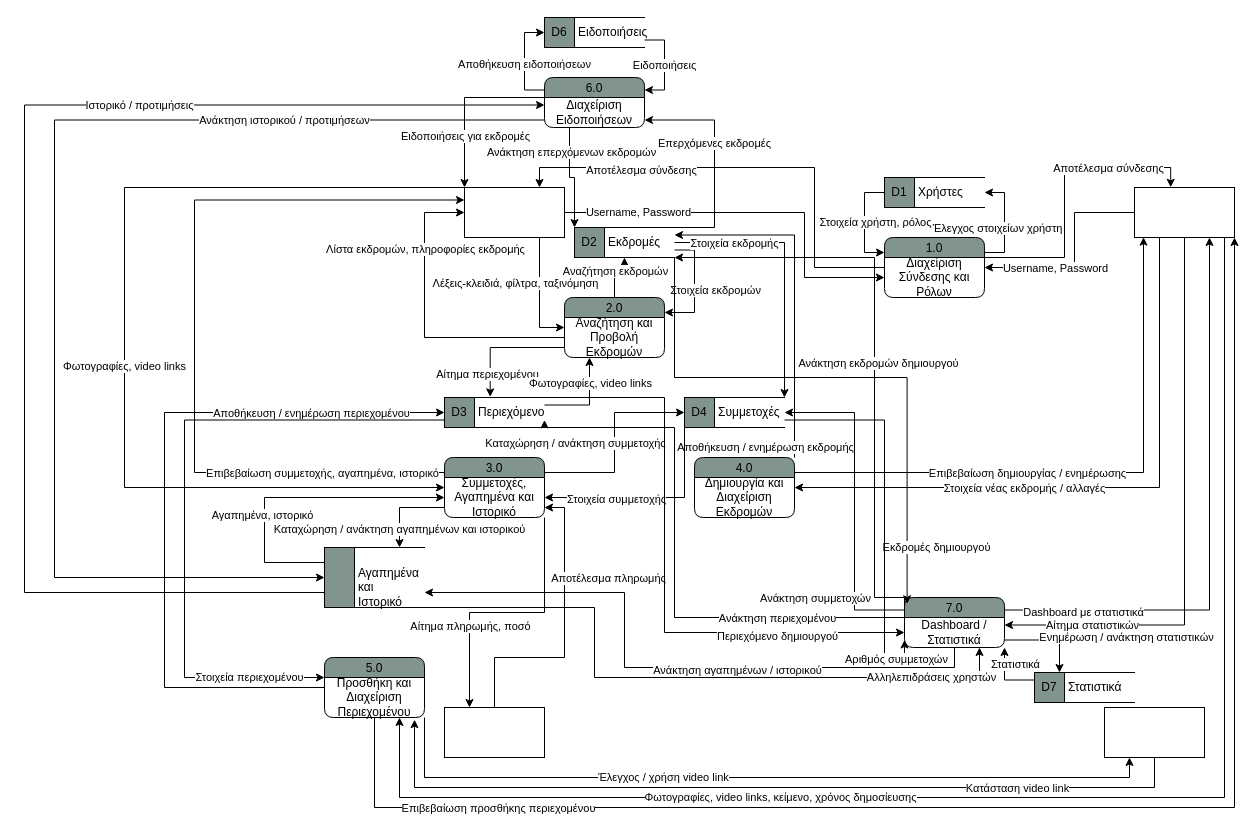
This 1260x833 diagram has some shape labels left out. Here are the shapes that lost their labels. From the top down, the centre of each, then its label:
(514,212): Εκδρομέας
(1184,212): Δημιουργός Εκδρομών
(339,577): D5
(494,732): Εξωτερικό Σύστημα Πληρωμών
(1154,732): Εξωτερική Υπηρεσία Βίντεο
